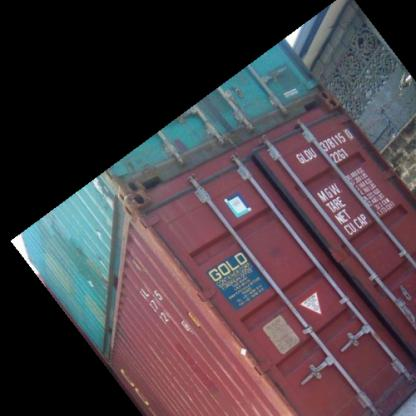Damage: (132, 221, 198, 292), (204, 302, 256, 378)
